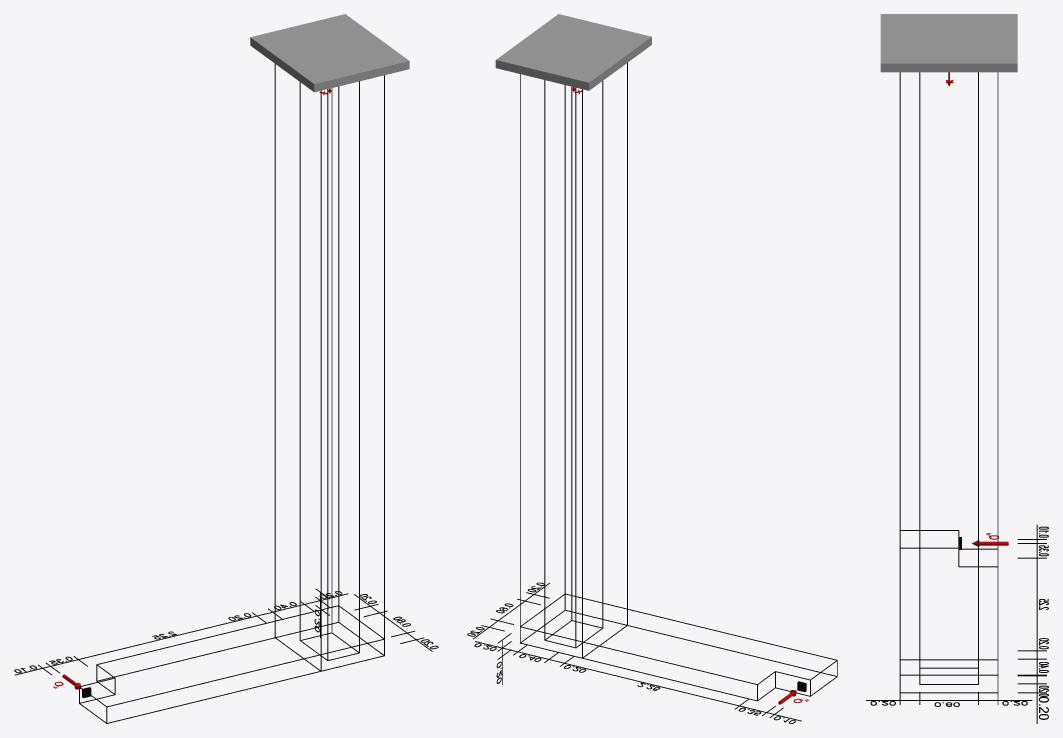
The model's file is 01_Global_Geometrie.obj.
3 views of the same model, side by side, from view 1: azimuth 30°, elevation 25°; view 2: azimuth 150°, elevation 25°; view 3: azimuth 270°, elevation 25° (orthographic). The views are drawn at different scales.
Parts seen in each view (by area): view 1: Object_107_Object_107.003, Object_36_Object_36.007, Object_32_Object_32.007, Object_35_Object_35.007, Object_33_Object_33.007, Object_34_Object_34.007, Object_31_Object_31.007; view 2: Object_107_Object_107.003, Object_33_Object_33.007, Object_34_Object_34.007, Object_35_Object_35.007, Object_37_Object_37.007, Object_38_Object_38.007; view 3: Object_107_Object_107.003, Object_31_Object_31.007, Object_38_Object_38.007, Object_37_Object_37.007, Object_34_Object_34.007.
Boxes of the visible parts, bbox=[...] form: Object_107_Object_107.003: bbox=[250, 14, 409, 92]; Object_36_Object_36.007: bbox=[320, 90, 321, 670]; Object_32_Object_32.007: bbox=[274, 64, 275, 637]; Object_35_Object_35.007: bbox=[327, 89, 328, 660]; Object_33_Object_33.007: bbox=[299, 82, 300, 640]; Object_34_Object_34.007: bbox=[331, 88, 332, 632]; Object_31_Object_31.007: bbox=[338, 86, 339, 621]; Object_107_Object_107.003: bbox=[495, 14, 651, 90]; Object_33_Object_33.007: bbox=[575, 87, 576, 647]; Object_34_Object_34.007: bbox=[544, 80, 545, 640]; Object_35_Object_35.007: bbox=[602, 81, 603, 627]; Object_37_Object_37.007: bbox=[571, 86, 572, 620]; Object_38_Object_38.007: bbox=[564, 85, 565, 603]; Object_107_Object_107.003: bbox=[880, 14, 1017, 72]; Object_31_Object_31.007: bbox=[997, 72, 998, 691]; Object_38_Object_38.007: bbox=[899, 72, 900, 691]; Object_37_Object_37.007: bbox=[919, 72, 920, 684]; Object_34_Object_34.007: bbox=[978, 72, 978, 684].
Size of the model in its own units: 4.4 by 7.55 by 1.87.
